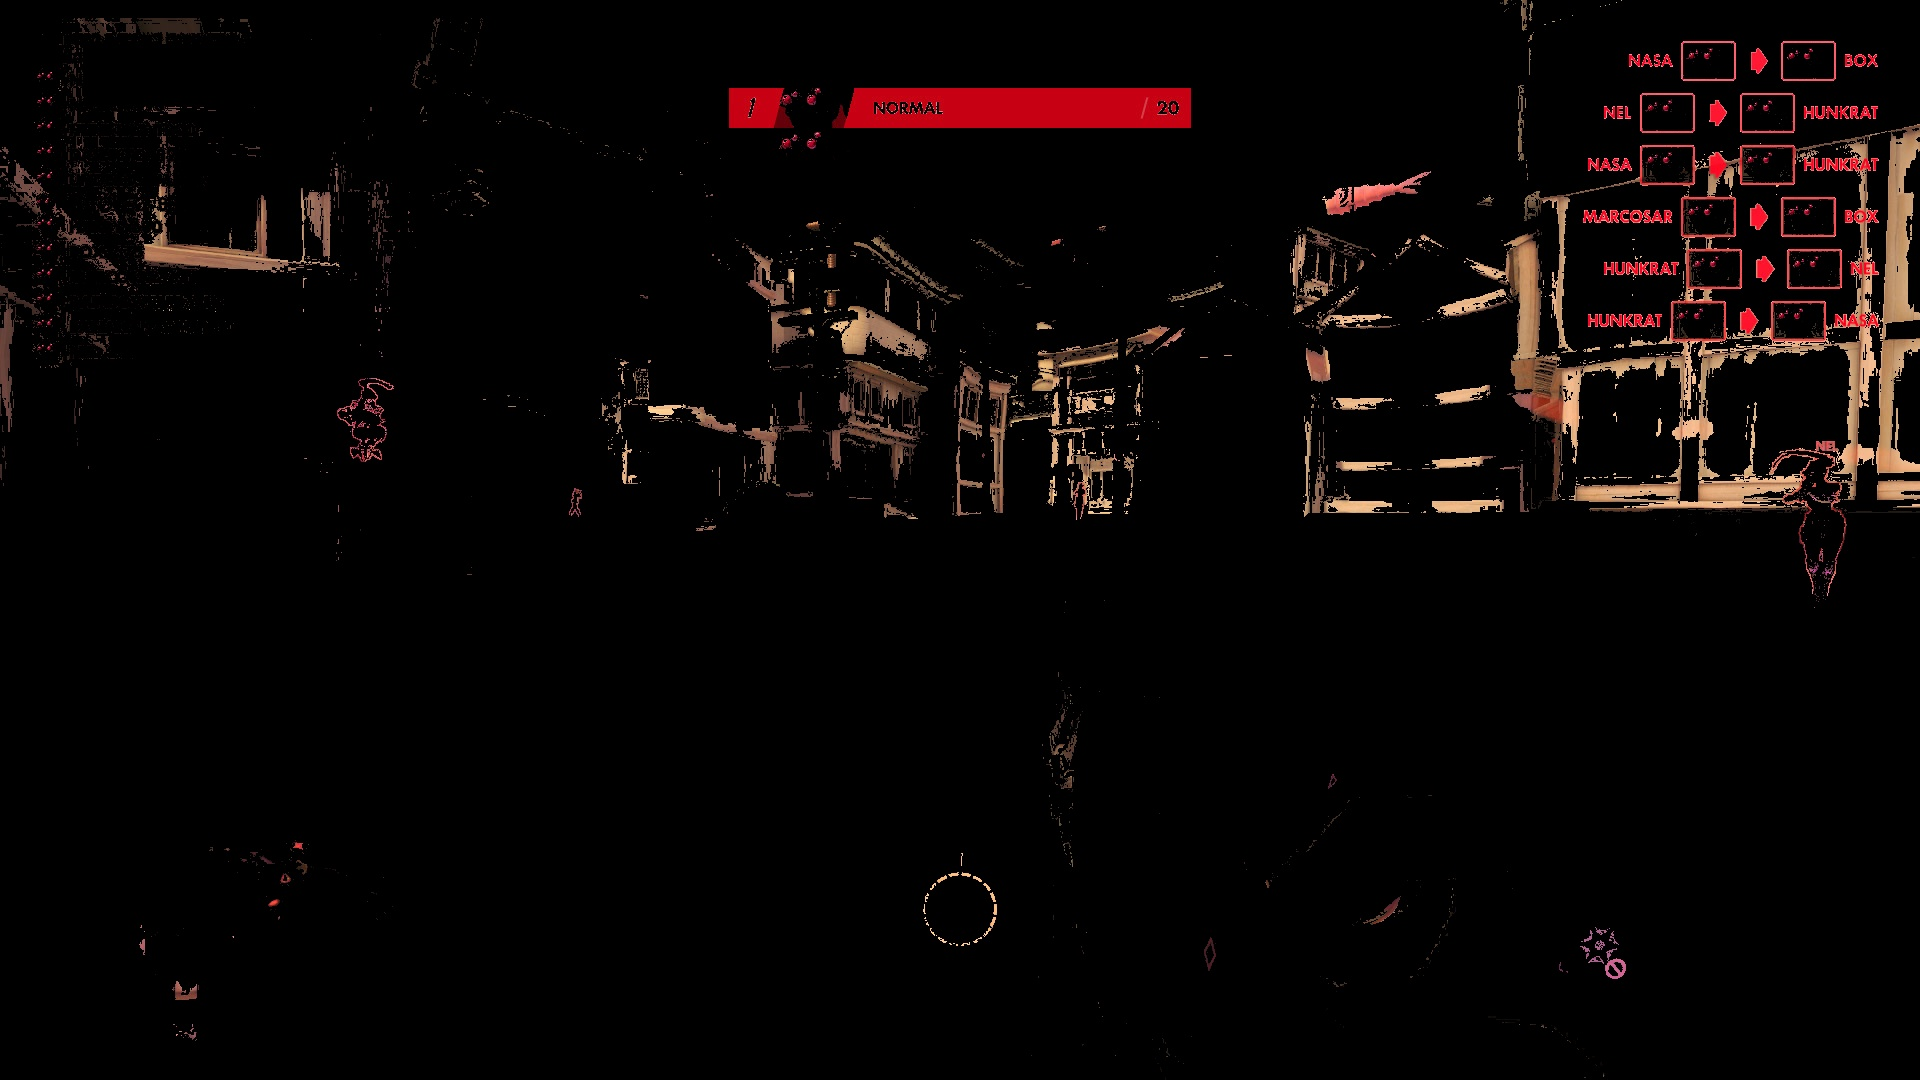widowmaker: (1768, 438, 1851, 618), (338, 375, 404, 465), (1067, 477, 1092, 526), (566, 487, 587, 520)
